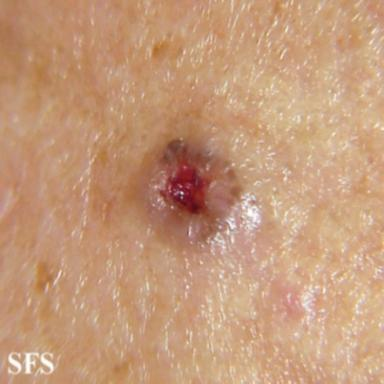basal-cell-carcinoma: (139, 139, 241, 243)
